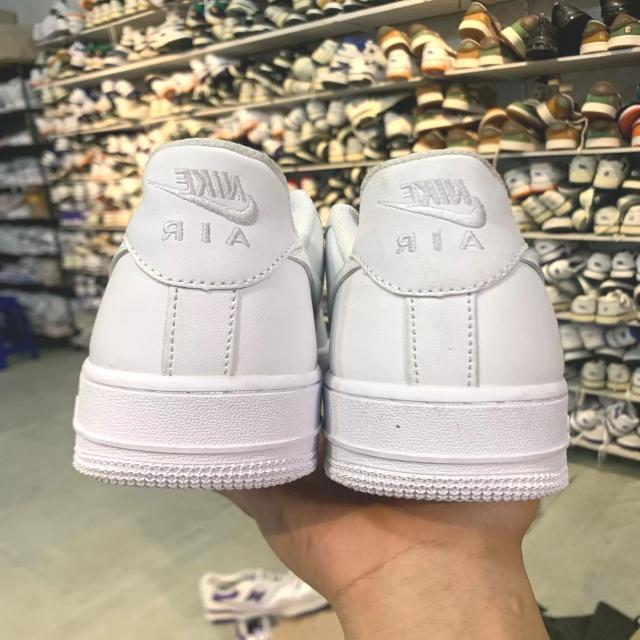nike_fake_airforce: (71, 130, 326, 489), (322, 146, 578, 500)
